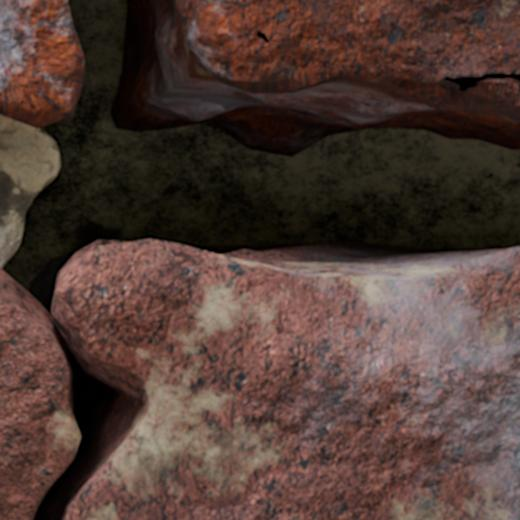brick: (182, 0, 519, 121), (0, 0, 83, 126)
broken_brick: (57, 240, 519, 519), (0, 271, 78, 519)
crack: (0, 0, 519, 519), (443, 72, 519, 91)
